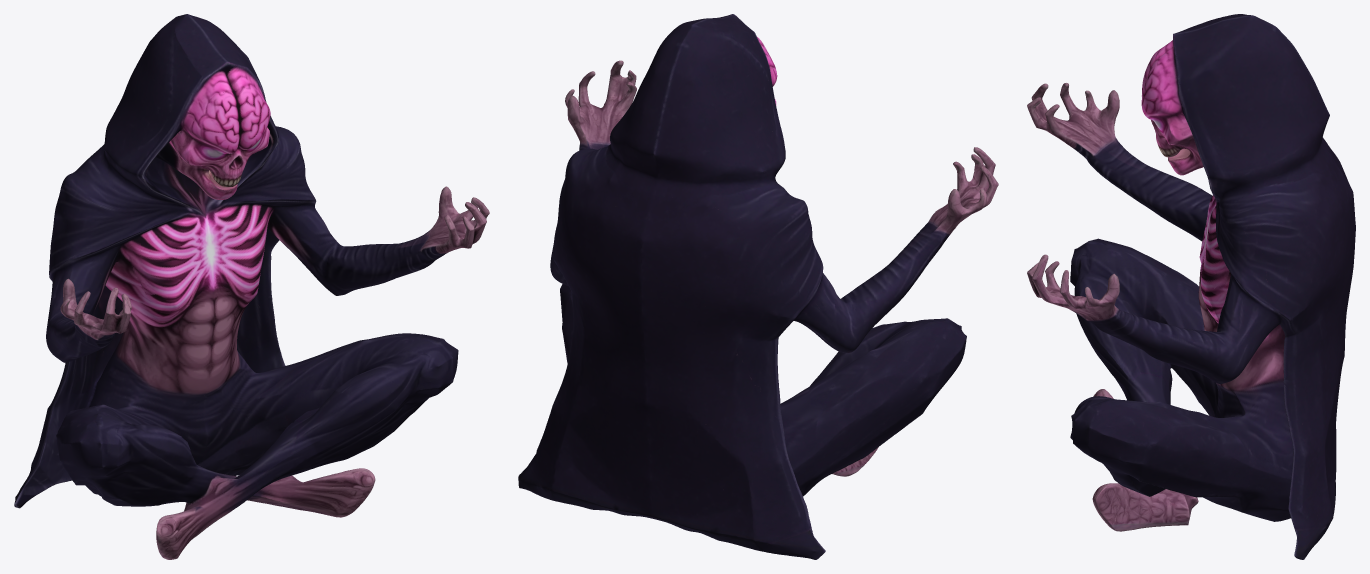
File: controller_mutant.glb
3 renders of one model, left to right at view 1: azimuth 30°, elevation 25°; view 2: azimuth 150°, elevation 25°; view 3: azimuth 270°, elevation 25°, orthographic.
Bounding box in the file's own units: 1.72 × 1.9 × 1.18.
Materials: 1 (1 with a texture image).
